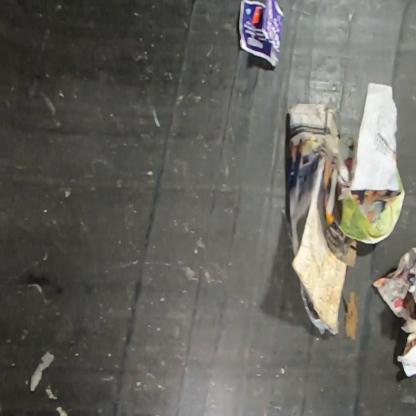cardboard: (290, 156, 358, 332)
